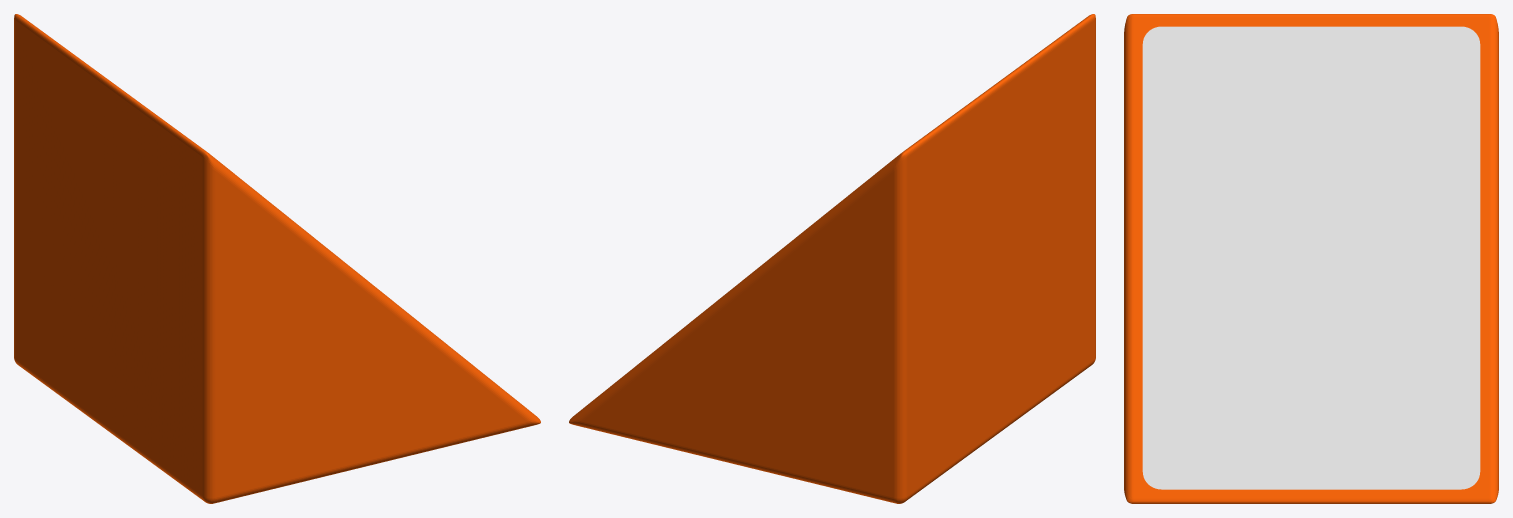
Rendered from wedge_2-bevel.glb.
The picture shows the model from 3 angles, left to right: view 1: azimuth 30°, elevation 25°; view 2: azimuth 150°, elevation 25°; view 3: azimuth 270°, elevation 25°; orthographic projection. The views are drawn at different scales.
Visible parts, largest first — view 1: Cube; view 2: Cube; view 3: Cube.
Part boxes in pixels (bbox=[...]): Cube: bbox=[14, 14, 540, 503]; Cube: bbox=[569, 14, 1095, 503]; Cube: bbox=[1124, 14, 1498, 503].
Bounding box in the file's own units: 1.98 × 1.98 × 2.
